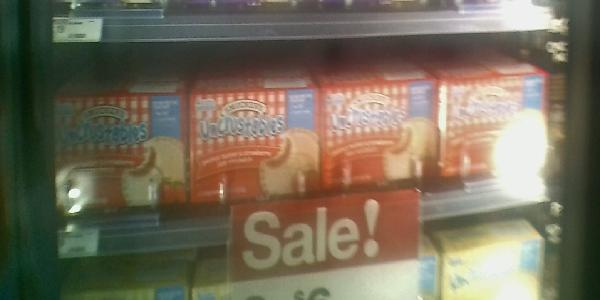icecream: (440, 44, 555, 207), (48, 86, 189, 216), (320, 58, 439, 204), (189, 79, 322, 209)
